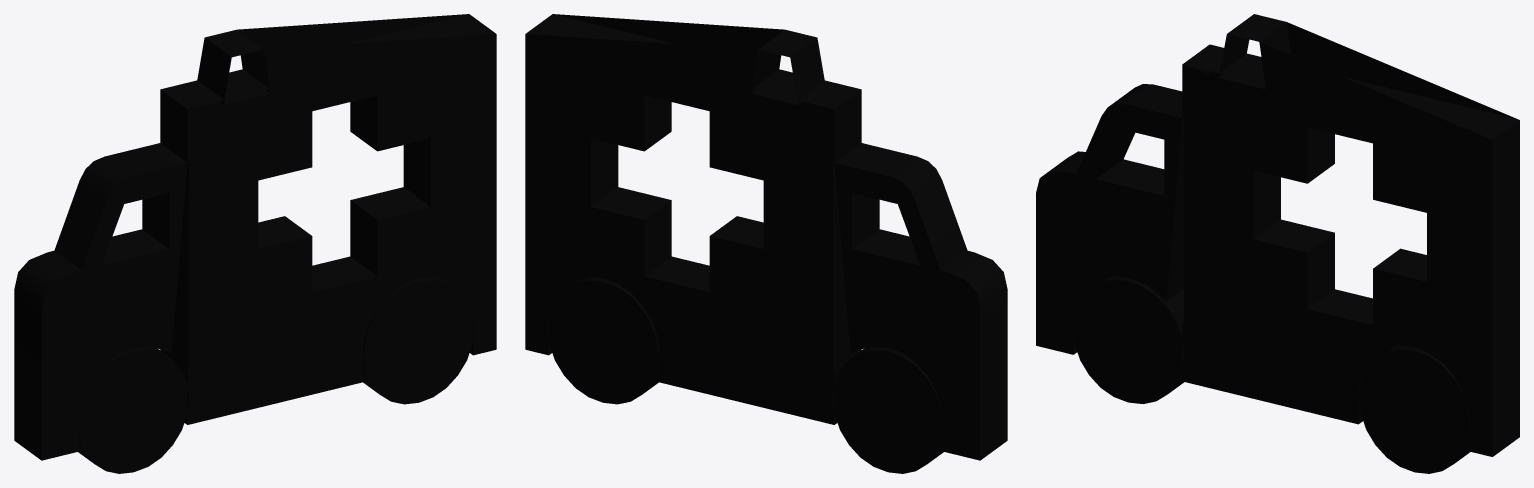
Rendered from icono_ambulancia.glb.
The picture shows the model from 3 angles, left to right: view 1: azimuth 30°, elevation 25°; view 2: azimuth 150°, elevation 25°; view 3: azimuth 330°, elevation 25°; orthographic projection.
Parts seen in each view (by area): view 1: mesh_id150; view 2: mesh_id150; view 3: mesh_id150.
Part boxes in pixels (x1,y1,x2,y2): mesh_id150: (14, 14, 496, 473); mesh_id150: (525, 14, 1007, 473); mesh_id150: (1036, 14, 1519, 473).
Size of the model in its own units: 1.53 by 1.26 by 0.1583.
Materials: 1 (1 with a texture image).
